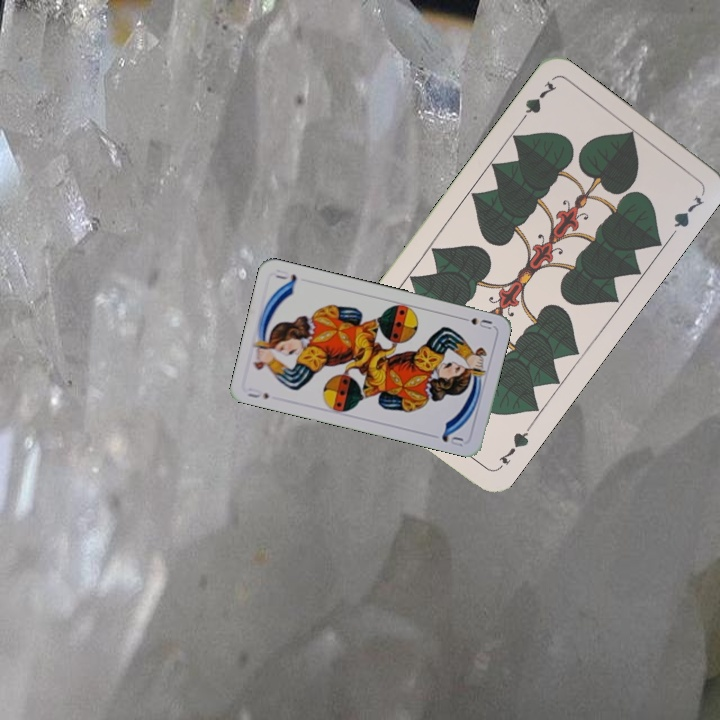G7: (514, 77, 560, 128), (493, 422, 534, 473)
SU: (456, 313, 495, 332), (243, 384, 272, 401)
